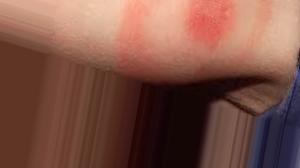Tick: (185, 0, 233, 50)
